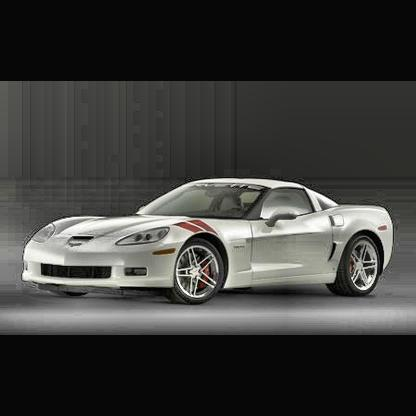Chevrolet Corvette Ron Fellows Edition Z06 2007: (21, 175, 395, 304)
